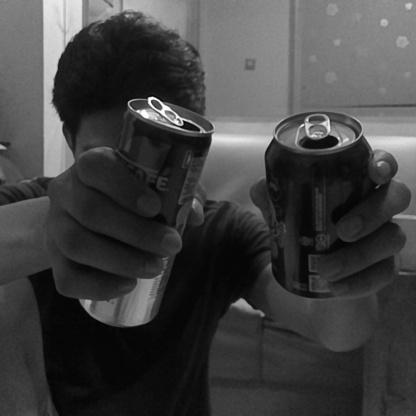alumunium_can: (77, 96, 218, 330), (265, 109, 371, 298)
